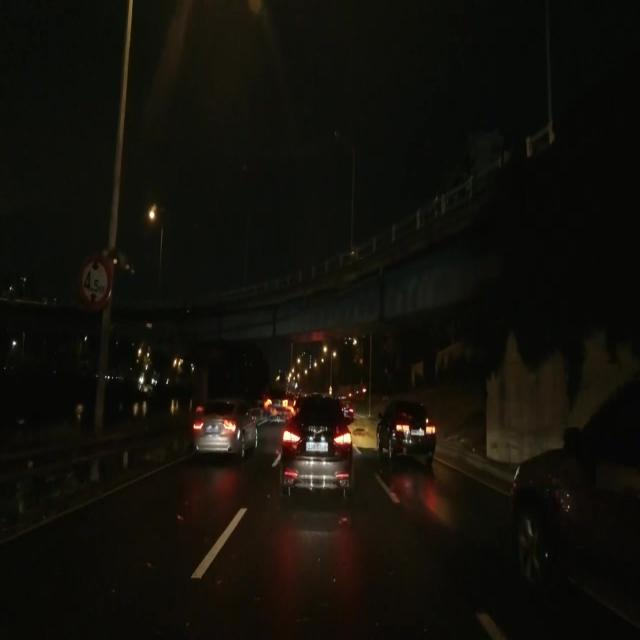Car: (514, 359, 635, 639), (278, 401, 355, 503), (192, 400, 259, 453), (375, 398, 434, 457)
